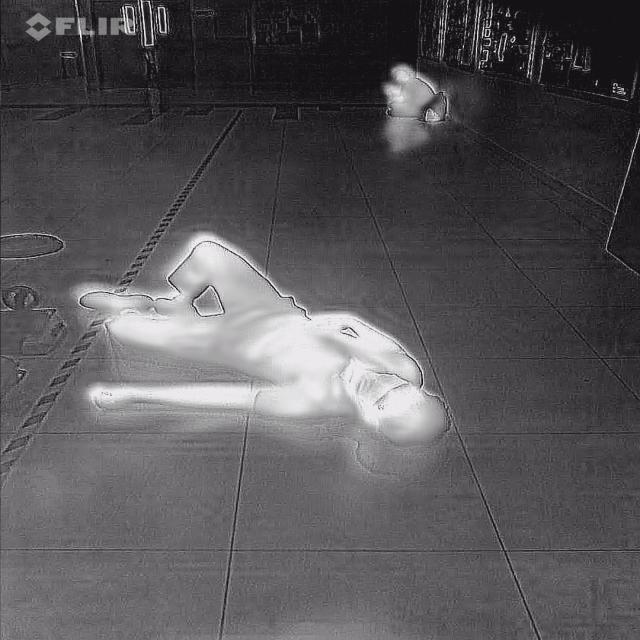Victim: (68, 232, 477, 444), (376, 58, 450, 124)
